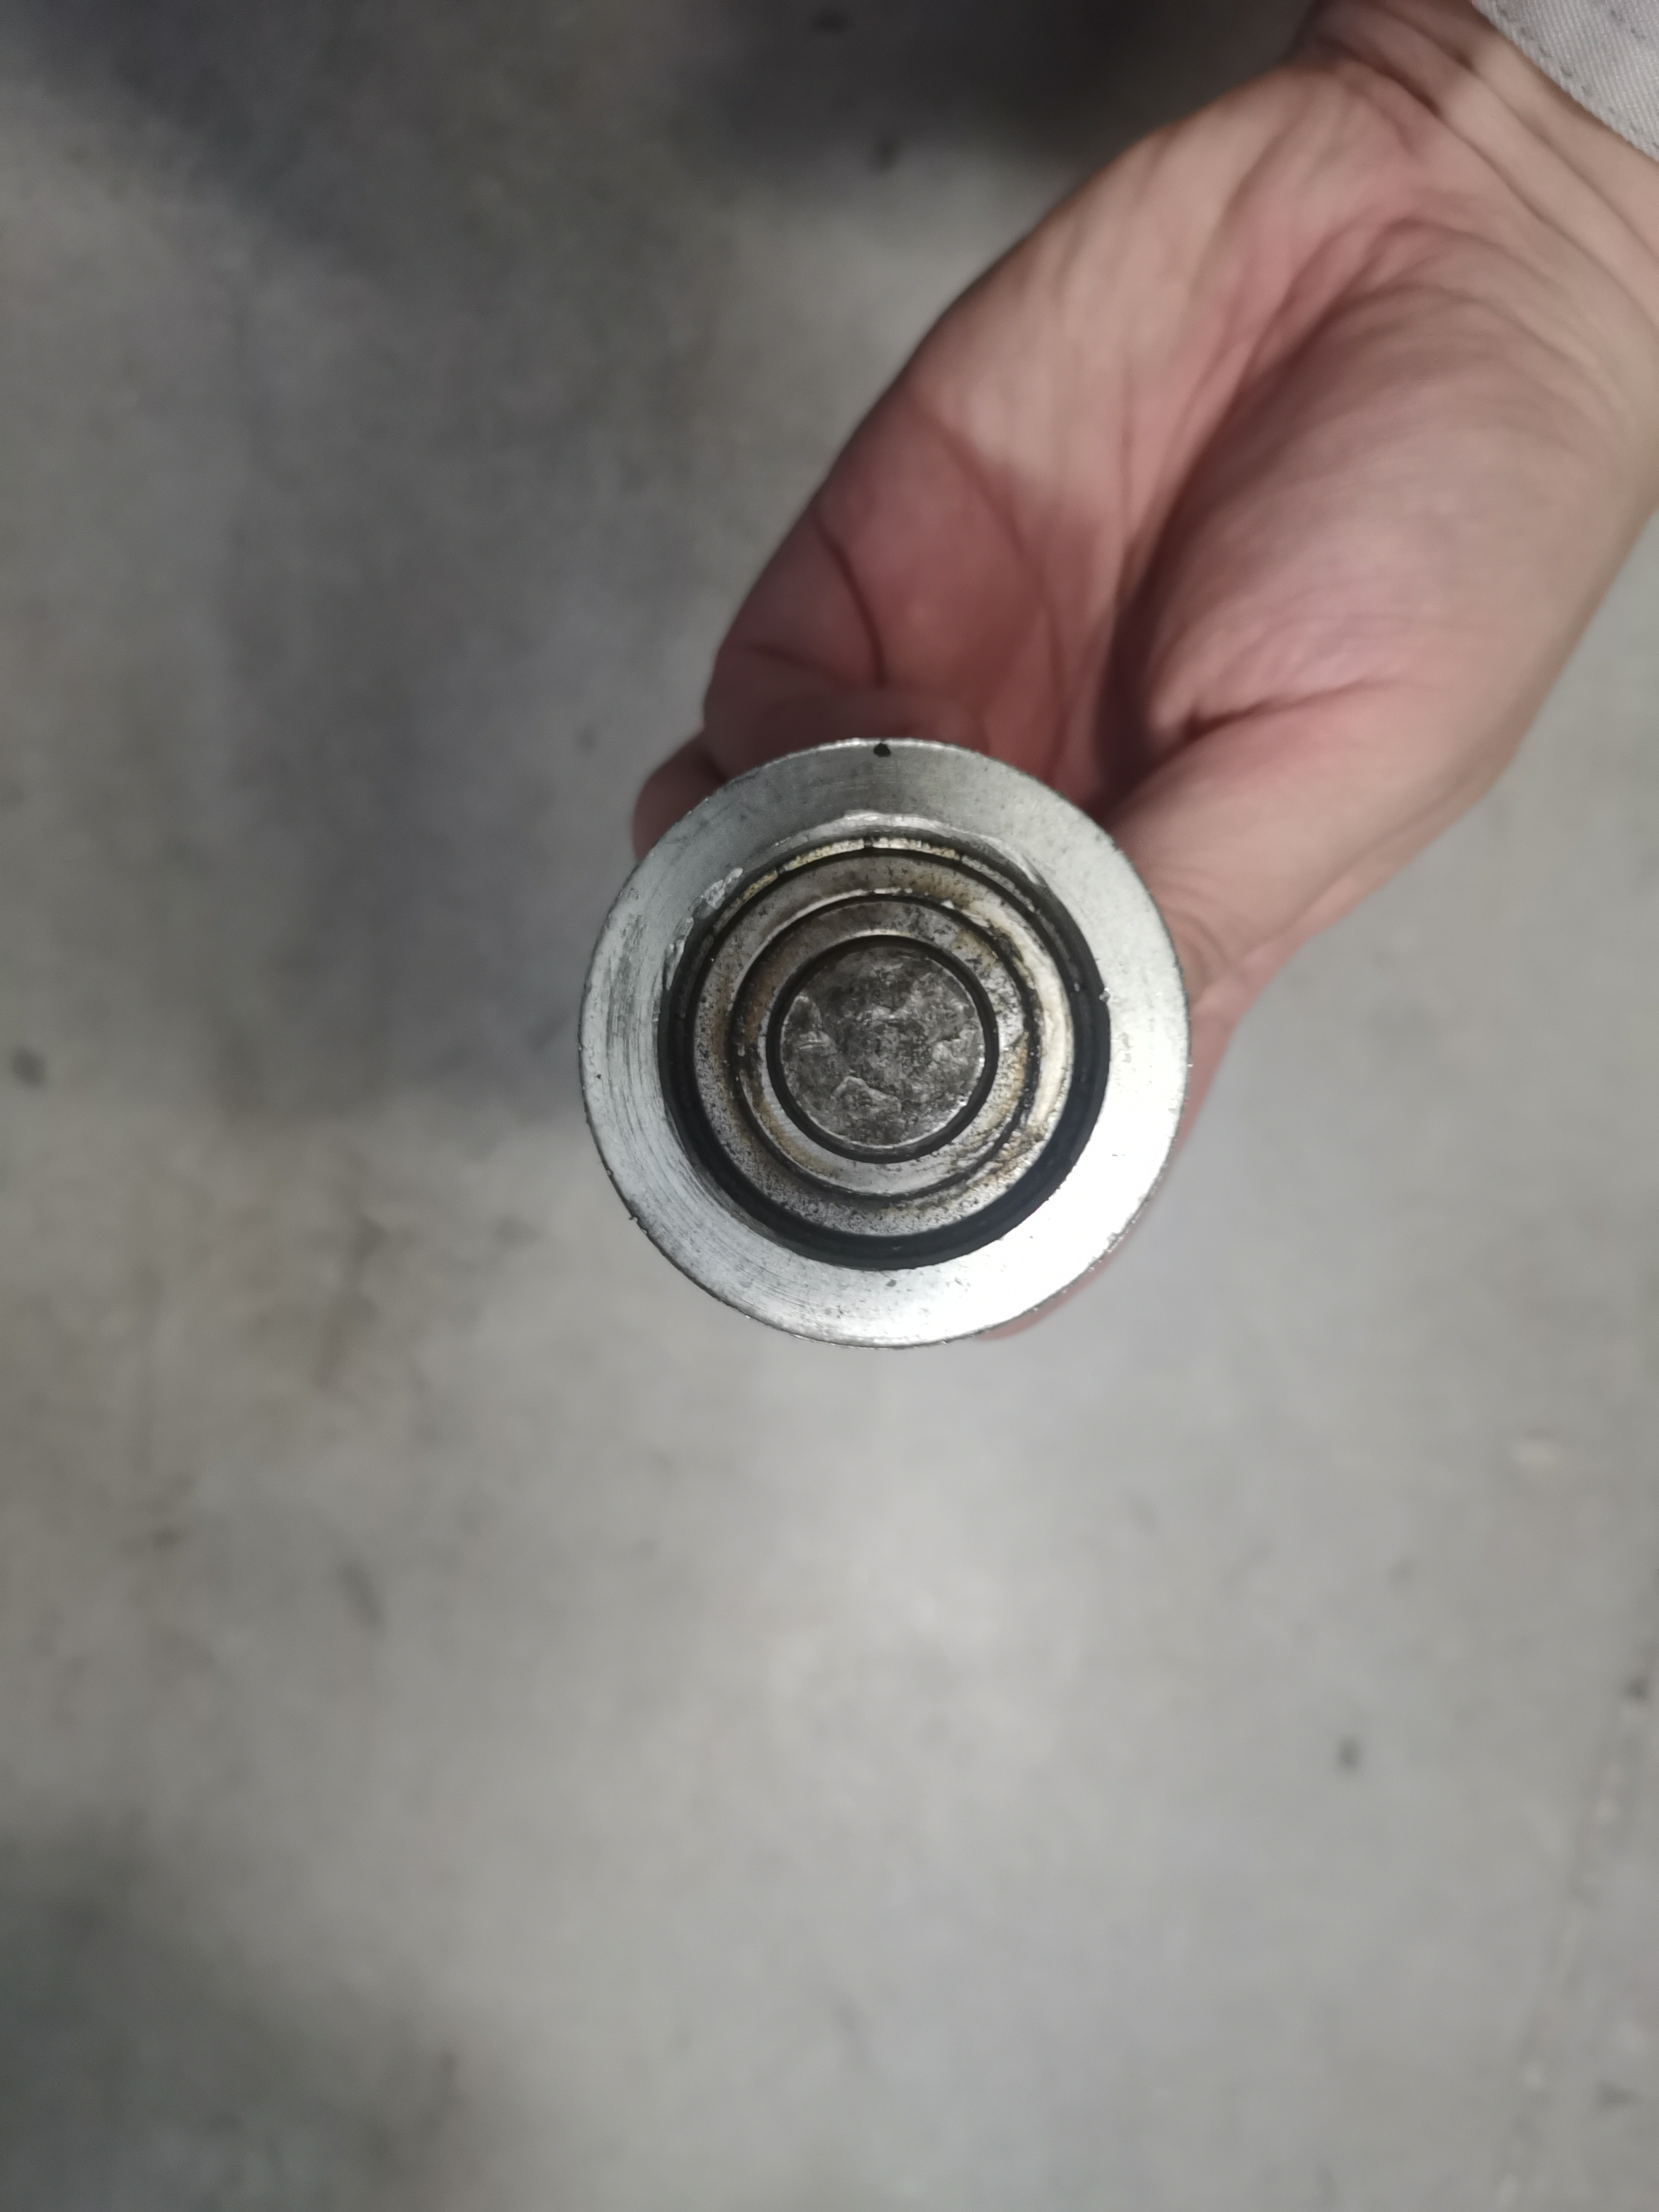bad_wheel: (568, 745, 1216, 1355)
